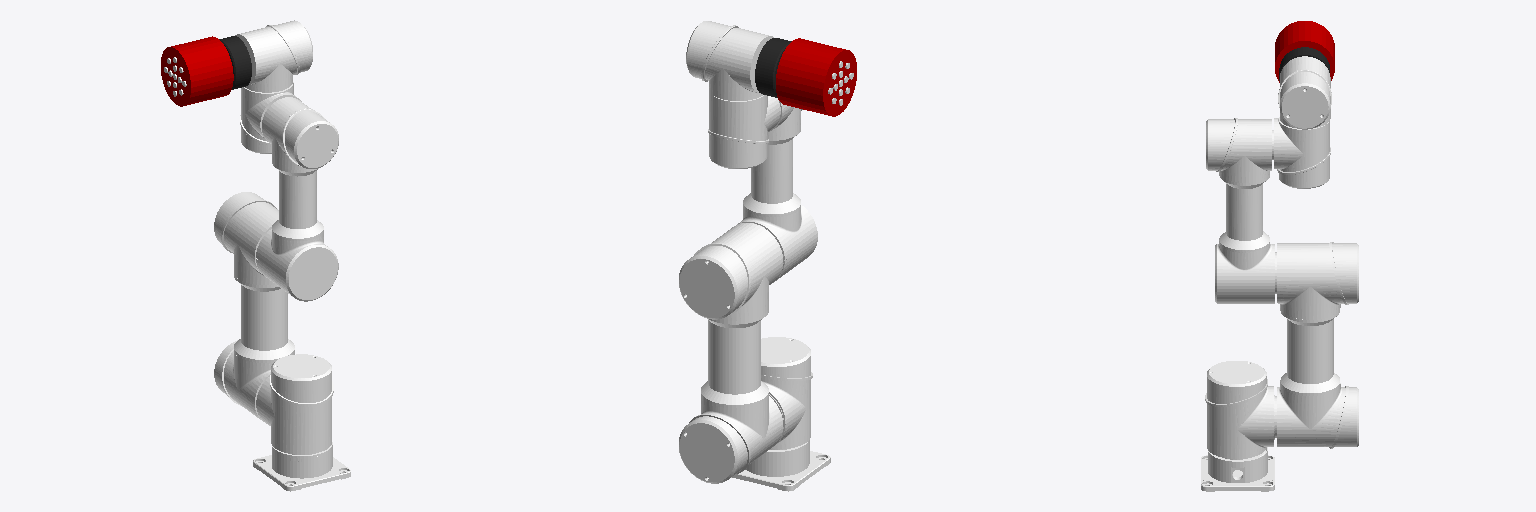
--- Render facts (derived) ---
The picture shows the robot from 3 angles, left to right: view 1: azimuth 30°, elevation 25°; view 2: azimuth 150°, elevation 25°; view 3: azimuth 270°, elevation 25°; orthographic projection.
Model elerobot with 22 links and 21 joints (19 revolute, 2 fixed), rooted at world, posed all joints at 0.
Visible links, largest first — view 1: elerobot_link3, elerobot_link2, elerobot_link1, elerobot_link5, elerobot_link7, elerobot_link0, elerobot_link4, elerobot_link6; view 2: elerobot_link2, elerobot_link3, elerobot_link5, elerobot_link7, elerobot_link1, elerobot_link4, elerobot_link0, elerobot_link6; view 3: elerobot_link2, elerobot_link3, elerobot_link1, elerobot_link5, elerobot_link4, elerobot_link0, elerobot_link7.
Link boxes in pixels (box(x1,y1,x2,y2)): elerobot_link3: box(256, 97, 338, 301); elerobot_link2: box(214, 192, 294, 423); elerobot_link1: box(256, 354, 333, 461); elerobot_link5: box(235, 20, 312, 92); elerobot_link7: box(161, 36, 233, 106); elerobot_link0: box(253, 442, 350, 491); elerobot_link4: box(240, 82, 301, 153); elerobot_link6: box(219, 36, 251, 89); elerobot_link2: box(679, 223, 783, 483); elerobot_link3: box(738, 101, 817, 282); elerobot_link5: box(686, 21, 773, 100); elerobot_link7: box(776, 38, 856, 116); elerobot_link1: box(761, 337, 812, 451); elerobot_link4: box(708, 91, 780, 168); elerobot_link0: box(731, 440, 830, 491); elerobot_link6: box(755, 38, 791, 97); elerobot_link2: box(1274, 242, 1358, 448); elerobot_link3: box(1206, 118, 1274, 303); elerobot_link1: box(1205, 361, 1273, 460); elerobot_link5: box(1278, 56, 1331, 129); elerobot_link4: box(1274, 117, 1330, 188); elerobot_link0: box(1201, 447, 1274, 491); elerobot_link7: box(1275, 21, 1334, 82).
Size in the robot's own frame: 0.2392 by 0.2632 by 0.7542 metres.
7 mesh visuals loaded from 7 distinct referenced files (7 binary STL).

The robot description file, URDF, robot "elerobot":
<?xml version="1.0" encoding="utf-8"?>
<!-- =================================================================================== -->
<!-- |    This document was autogenerated by xacro from elerobot.urdf.xacro            | -->
<!-- |    EDITING THIS FILE BY HAND IS NOT RECOMMENDED                                 | -->
<!-- =================================================================================== -->
<robot name="elerobot">
  <!-- xacro color -->
  <material name="black">
    <color rgba="0.0 0.0 0.0 1.0"/>
  </material>
  <material name="blue">
    <color rgba="0.0 0.0 0.8 1.0"/>
  </material>
  <material name="green">
    <color rgba="0.0 0.8 0.0 1.0"/>
  </material>
  <material name="grey">
    <color rgba="0.2 0.2 0.2 1.0"/>
  </material>
  <material name="orange">
    <color rgba="1.0 0.423529411765 0.0392156862745 1.0"/>
  </material>
  <material name="brown">
    <color rgba="0.870588235294 0.811764705882 0.764705882353 1.0"/>
  </material>
  <material name="red">
    <color rgba="0.8 0.0 0.0 1.0"/>
  </material>
  <material name="white">
    <color rgba="1.0 1.0 1.0 1.0"/>
  </material>
  <!-- MACRO: transmission of the joint-->
<![CDATA[ 
  Arm_Part: Actuator, Joint, etc
  Effort ${Arm_Part} Interface - for commanding effort-based joints. 
  Velocity ${Arm_Part} Interface - for commanding velocity-based joints.
  Position ${Arm_Part} Interface - for commanding position-based joints.
  ]]>  <!-- LINK DESCRIPTION -->
  <!-- Gazebo requires a joint to a link called "world" for statically mounted robots -->
  <link name="world"/>
  <joint name="world_joint" type="fixed">
    <origin rpy="0.0 0.0 0.0" xyz="0.0 0.0 0.0"/>
    <parent link="world"/>
    <child link="elerobot_link0"/>
  </joint>
  <!-- link0 -->
  <link name="elerobot_link0">
    <visual>
      <origin rpy="-1.57079632675 0.0 0.0" xyz="-0.06 -0.06 0.05"/>
      <geometry>
        <mesh filename="package://elerobot_description/mesh/ERP03D_LINK0.STL" scale="0.001 0.001 0.001"/>
      </geometry>
      <material name="white"/>
    </visual>
    <collision>
      <origin rpy="-1.57079632675 0.0 0.0" xyz="-0.06 -0.06 0.05"/>
      <geometry>
        <mesh filename="package://elerobot_description/mesh/ERP03D_LINK0.STL" scale="0.001 0.001 0.001"/>
      </geometry>
      <material name="white"/>
    </collision>
    <inertial>
      <origin rpy="0.0 0.0 0.0" xyz="-0.0008 0.0091 0.0"/>
      <mass value="1.171"/>
      <inertia ixx="0.0017" ixy="0.0000" ixz="0.0000" iyy="0.0028" iyz="0.0000" izz="0.0017"/>
    </inertial>
  </link>
  <!-- link1 -->
  <link name="elerobot_link1">
    <visual>
      <origin rpy="0.0 0.0 0.0" xyz="-0.0528 -0.0528 -0.07"/>
      <geometry>
        <mesh filename="package://elerobot_description/mesh/ERP03D_LINK1.STL" scale="0.001 0.001 0.001"/>
      </geometry>
      <material name="white"/>
    </visual>
    <collision>
      <origin rpy="0.0 0.0 0.0" xyz="-0.0528 -0.0528 -0.07"/>
      <geometry>
        <mesh filename="package://elerobot_description/mesh/ERP03D_LINK1.STL" scale="0.001 0.001 0.001"/>
      </geometry>
      <material name="white"/>
    </collision>
    <inertial>
      <origin rpy="0.0 0.0 0.0" xyz="0.0 0.0032 0.0615"/>
      <mass value="2.488"/>
      <inertia ixx="0.0156" ixy="0.0000" ixz="0.0000" iyy="0.0154" iyz="0.0004" izz="0.0034"/>
    </inertial>
  </link>
  <!-- link2 -->
  <link name="elerobot_link2">
    <visual>
      <origin rpy="-1.57079632675 0.0 0.0" xyz="-0.054 -0.053 0.154"/>
      <geometry>
        <mesh filename="package://elerobot_description/mesh/ERP03D_LINK2.STL" scale="0.001 0.001 0.001"/>
      </geometry>
      <material name="white"/>
    </visual>
    <collision>
      <origin rpy="-1.57079632675 0.0 0.0" xyz="-0.054 -0.053 0.154"/>
      <geometry>
        <mesh filename="package://elerobot_description/mesh/ERP03D_LINK2.STL" scale="0.001 0.001 0.001"/>
      </geometry>
      <material name="white"/>
    </collision>
    <inertial>
      <origin rpy="0.0 0.0 0.0" xyz="0.0 -0.0049 0.0"/>
      <mass value="6.628"/>
      <inertia ixx="0.0137" ixy="0.0000" ixz="0.0000" iyy="0.0940" iyz="0.0000" izz="0.0997"/>
    </inertial>
  </link>
  <!-- link3 -->
  <link name="elerobot_link3">
    <visual>
      <origin rpy="-1.57079632675 0.0 3.1415926535" xyz="0.2815 0.078 0.024"/>
      <geometry>
        <mesh filename="package://elerobot_description/mesh/ERP03D_LINK3.STL" scale="0.001 0.001 0.001"/>
      </geometry>
      <material name="white"/>
    </visual>
    <collision>
      <origin rpy="-1.57079632675 0.0 3.1415926535" xyz="0.2815 0.078 0.024"/>
      <geometry>
        <mesh filename="package://elerobot_description/mesh/ERP03D_LINK3.STL" scale="0.001 0.001 0.001"/>
      </geometry>
      <material name="white"/>
    </collision>
    <inertial>
      <origin rpy="0.0 0.0 0.0" xyz="0.0052 0.0037 0.0"/>
      <mass value="3.88"/>
      <inertia ixx="0.0049" ixy="-0.0001" ixz="0.0000" iyy="0.0446" iyz="0.0000" izz="0.0456"/>
    </inertial>
  </link>
  <!-- link4 -->
  <link name="elerobot_link4">
    <visual>
      <origin rpy="-1.57079632675 0.0 0.0" xyz="-0.0772 -0.0596 0.044"/>
      <geometry>
        <mesh filename="package://elerobot_description/mesh/ERP03D_LINK4.STL" scale="0.001 0.001 0.001"/>
      </geometry>
      <material name="white"/>
    </visual>
    <collision>
      <origin rpy="-1.57079632675 0.0 0.0" xyz="-0.0772 -0.0596 0.044"/>
      <geometry>
        <mesh filename="package://elerobot_description/mesh/ERP03D_LINK4.STL" scale="0.001 0.001 0.001"/>
      </geometry>
      <material name="white"/>
    </collision>
    <inertial>
      <origin rpy="0.0 0.0 0.0" xyz="0.0 0.0 0.05"/>
      <mass value="1.42"/>
      <inertia ixx="0.01" ixy="0.0" ixz="0.0000" iyy="0.01" iyz="0.0" izz="0.0"/>
    </inertial>
  </link>
  <!-- link5 -->
  <link name="elerobot_link5">
    <visual>
      <origin rpy="-1.57079632675 0.0 3.1415926535" xyz="0.0775 0.0605 0.046"/>
      <geometry>
        <mesh filename="package://elerobot_description/mesh/ERP03D_LINK5.STL" scale="0.001 0.001 0.001"/>
      </geometry>
      <material name="white"/>
    </visual>
    <collision>
      <origin rpy="-1.57079632675 0.0 3.1415926535" xyz="0.0775 0.0605 0.046"/>
      <geometry>
        <mesh filename="package://elerobot_description/mesh/ERP03D_LINK5.STL" scale="0.001 0.001 0.001"/>
      </geometry>
      <material name="white"/>
    </collision>
    <inertial>
      <origin rpy="0.0 0.0 0.0" xyz="0.0 0.0023 0.0506"/>
      <mass value="1.417"/>
      <inertia ixx="0.0059" ixy="0.0" ixz="0.0000" iyy="0.0059" iyz="0.0002" izz="0.0014"/>
    </inertial>
  </link>
  <!-- link6 -->
  <link name="elerobot_link6">
    <visual>
      <origin rpy="0.0 0.0 0.0" xyz="-0.0425 -0.0425 -0.007"/>
      <geometry>
        <mesh filename="package://elerobot_description/mesh/ERP03D_LINK6.STL" scale="0.001 0.001 0.001"/>
      </geometry>
      <material name="grey"/>
    </visual>
    <collision>
      <origin rpy="0.0 0.0 0.0" xyz="-0.0425 -0.0425 -0.007"/>
      <geometry>
        <mesh filename="package://elerobot_description/mesh/ERP03D_LINK6.STL" scale="0.001 0.001 0.001"/>
      </geometry>
      <material name="grey"/>
    </collision>
    <inertial>
      <origin rpy="0.0 0.0 0.0" xyz="-0.0001 -0.00033 0.02"/>
      <mass value="0.3158"/>
      <inertia ixx="0.0003" ixy="0.0" ixz="0.0" iyy="0.0003" iyz="0.0" izz="0.0003"/>
    </inertial>
  </link>
  <link name="elerobot_link7">
    <visual>
      <origin rpy="0.0 0.0 0.0" xyz="0.0 0.0 -0.04"/>
      <geometry>
        <cylinder length="0.08" radius="0.05"/>
      </geometry>
      <material name="red"/>
    </visual>
    <collision>
      <origin rpy="0.0 0.0 0.0" xyz="0.0 0.0 -0.04"/>
      <geometry>
        <cylinder length="0.08" radius="0.05"/>
      </geometry>
    </collision>
    <inertial>
      <origin rpy="0.0 0.0 0.0" xyz="0.0 0.0 0.0"/>
      <mass value="0.1"/>
      <inertia ixx="0.000115833333333" ixy="0" ixz="0" iyy="0.000115833333333" iyz="0" izz="0.000125"/>
    </inertial>
  </link>
  <!-- JOINT DESCRIPTION -->
  <!-- joint0 Locked -->
  <joint name="elerobot_joint0" type="revolute">
    <axis xyz="0 0 1"/>
    <origin rpy="0.0 0.0 0.0" xyz="0.0 0.0 0.107"/>
    <safety_controller k_position="50.0" k_velocity="20.0" soft_lower_limit="-0.000174532925194" soft_upper_limit="0.000174532925194"/>
    <!-- <safety_controller k_position="50.0" k_velocity="20.0" soft_lower_limit="${-PI*360/180}" soft_upper_limit="${PI*360/180}"/> -->
    <limit acceleration="15" effort="500.0" lower="-6.283185307" upper="6.283185307" velocity="3.1415926535"/>
    <parent link="elerobot_link0"/>
    <child link="elerobot_link1"/>
    <dynamics D="1" K="7000" damping="0.003" friction="0.01" mu_coulomb="0" mu_viscous="16"/>
  </joint>
  <!-- joint1 -->
  <joint name="elerobot_joint1" type="revolute">
    <axis xyz="0 0 1"/>
    <origin rpy="0.0 -1.57079632675 -1.57079632675" xyz="0.0 0.05 0.0"/>
    <safety_controller k_position="50.0" k_velocity="20.0" soft_lower_limit="-6.283185307" soft_upper_limit="6.283185307"/>
    <limit acceleration="15" effort="500.0" lower="-6.283185307" upper="6.283185307" velocity="3.1415926535"/>
    <parent link="elerobot_link1"/>
    <child link="elerobot_link2"/>
    <dynamics D="1" K="7000" damping="0.003" friction="0.01" mu_coulomb="0" mu_viscous="16"/>
  </joint>
  <!-- joint2 -->
  <joint name="elerobot_joint2" type="revolute">
    <axis xyz="0 0 1"/>
    <origin rpy="0.0 0.0 0.0" xyz="0.265 0.0 0.0"/>
    <safety_controller k_position="50.0" k_velocity="20.0" soft_lower_limit="-6.283185307" soft_upper_limit="6.283185307"/>
    <limit acceleration="15" effort="500.0" lower="-6.283185307" upper="6.283185307" velocity="3.1415926535"/>
    <parent link="elerobot_link2"/>
    <child link="elerobot_link3"/>
    <dynamics D="1" K="7000" damping="0.003" friction="0.01" mu_coulomb="0" mu_viscous="16"/>
  </joint>
  <!-- joint3 -->
  <joint name="elerobot_joint3" type="revolute">
    <axis xyz="0 0 1"/>
    <origin rpy="0.0 0.0 1.57079632675" xyz="0.238 0.0 0.063"/>
    <safety_controller k_position="50.0" k_velocity="20.0" soft_lower_limit="-6.283185307" soft_upper_limit="6.283185307"/>
    <limit acceleration="15" effort="500.0" lower="-6.283185307" upper="6.283185307" velocity="3.63028484404"/>
    <parent link="elerobot_link3"/>
    <child link="elerobot_link4"/>
    <dynamics D="1" K="7000" damping="0.003" friction="0.01" mu_coulomb="0" mu_viscous="16"/>
  </joint>
  <!-- joint4 -->
  <joint name="elerobot_joint4" type="revolute">
    <axis xyz="0 0 1"/>
    <origin rpy="0.0 -1.57079632675 1.57079632675" xyz="0.0 -0.095 0.0"/>
    <safety_controller k_position="50.0" k_velocity="20.0" soft_lower_limit="-0.000174532925194" soft_upper_limit="0.000174532925194"/>
    <!-- <safety_controller k_position="50.0" k_velocity="20.0" soft_lower_limit="${-PI*360/180}" soft_upper_limit="${PI*360/180}"/> -->
    <limit acceleration="15" effort="500.0" lower="-6.283185307" upper="6.283185307" velocity="3.63028484404"/>
    <parent link="elerobot_link4"/>
    <child link="elerobot_link5"/>
    <dynamics D="1" K="7000" damping="0.003" friction="0.01" mu_coulomb="0" mu_viscous="16"/>
  </joint>
  <!-- joint5 Locked -->
  <joint name="elerobot_joint5" type="revolute">
    <axis xyz="0 0 1"/>
    <origin rpy="-1.57079632675 0.0 0.0" xyz="0.0 0.06 0.0"/>
    <safety_controller k_position="50.0" k_velocity="20.0" soft_lower_limit="-6.283185307" soft_upper_limit="6.283185307"/>
    <limit acceleration="15" effort="500.0" lower="-6.283185307" upper="6.283185307" velocity="3.63028484404"/>
    <parent link="elerobot_link5"/>
    <child link="elerobot_link6"/>
    <dynamics D="1" K="7000" damping="0.003" friction="0.01" mu_coulomb="0" mu_viscous="16"/>
  </joint>
  <!-- joint6 -->
  <joint name="elerobot_joint6" type="fixed">
    <origin rpy="0.0 0.0 0.0" xyz="0.0 0.0 0.112"/>
    <parent link="elerobot_link6"/>
    <child link="elerobot_link7"/>
  </joint>
  <link name="vacuum_gripper_1">
    <gravity>0</gravity>
    <visual>
      <origin rpy="0 0 0" xyz="0 0 -0.0025"/>
      <geometry>
        <cylinder length="0.005" radius="0.005"/>
      </geometry>
      <material name="transparent">
        <color rgba="255 255 255 0.8"/>
      </material>
    </visual>
    <collision>
      <origin rpy="0 0 0" xyz="0 0 -0.0025"/>
      <geometry>
        <cylinder length="0.0005" radius="0.005"/>
      </geometry>
      <material name="transparent">
        <color rgba="255 255 255 0.8"/>
      </material>
    </collision>
    <inertial>
      <origin rpy="0 0 0" xyz="0.000000 0.000000 0.000000"/>
      <mass value="0.0001"/>
      <inertia ixx="1e-08" ixy="0" ixz="0" iyy="1e-08" iyz="0" izz="1e-08"/>
    </inertial>
  </link>
  <joint name="vacuum_joint_1" type="revolute">
    <axis xyz="0 0 1"/>
    <parent link="elerobot_link7"/>
    <child link="vacuum_gripper_1"/>
    <origin rpy="0 0 0" xyz="0 0 0.0025"/>
    <limit effort="50" lower="0" upper="0" velocity="50"/>
    <dynamics damping="0.0" friction="10"/>
  </joint>
  <gazebo>
    <plugin filename="libgazebo_ros_vacuum_gripper.so" name="gazebo_ros_vacuum_gripper_1">
      <robotNamespace>/rokae_arm/vacuum_gripper_1</robotNamespace>
      <bodyName>vacuum_gripper_1</bodyName>
      <topicName>grasping_1</topicName>
      <maxForce>100</maxForce>
      <maxDistance>0.05</maxDistance>
      <minDistance>0.01</minDistance>
    </plugin>
  </gazebo>
  <link name="vacuum_gripper_2">
    <gravity>0</gravity>
    <visual>
      <origin rpy="0 0 0" xyz="0 0 -0.0025"/>
      <geometry>
        <cylinder length="0.005" radius="0.005"/>
      </geometry>
      <material name="transparent">
        <color rgba="255 255 255 0.8"/>
      </material>
    </visual>
    <collision>
      <origin rpy="0 0 0" xyz="0 0 -0.0025"/>
      <geometry>
        <cylinder length="0.0005" radius="0.005"/>
      </geometry>
      <material name="transparent">
        <color rgba="255 255 255 0.8"/>
      </material>
    </collision>
    <inertial>
      <origin rpy="0 0 0" xyz="0.000000 0.000000 0.000000"/>
      <mass value="0.0001"/>
      <inertia ixx="1e-08" ixy="0" ixz="0" iyy="1e-08" iyz="0" izz="1e-08"/>
    </inertial>
  </link>
  <joint name="vacuum_joint_2" type="revolute">
    <axis xyz="0 0 1"/>
    <parent link="elerobot_link7"/>
    <child link="vacuum_gripper_2"/>
    <origin rpy="0 0 0" xyz="0.015 0 0.0025"/>
    <limit effort="50" lower="0" upper="0" velocity="50"/>
    <dynamics damping="0.0" friction="10"/>
  </joint>
  <gazebo>
    <plugin filename="libgazebo_ros_vacuum_gripper.so" name="gazebo_ros_vacuum_gripper_2">
      <robotNamespace>/rokae_arm/vacuum_gripper_2</robotNamespace>
      <bodyName>vacuum_gripper_2</bodyName>
      <topicName>grasping_2</topicName>
      <maxForce>100</maxForce>
      <maxDistance>0.05</maxDistance>
      <minDistance>0.01</minDistance>
    </plugin>
  </gazebo>
  <link name="vacuum_gripper_3">
    <gravity>0</gravity>
    <visual>
      <origin rpy="0 0 0" xyz="0 0 -0.0025"/>
      <geometry>
        <cylinder length="0.005" radius="0.005"/>
      </geometry>
      <material name="transparent">
        <color rgba="255 255 255 0.8"/>
      </material>
    </visual>
    <collision>
      <origin rpy="0 0 0" xyz="0 0 -0.0025"/>
      <geometry>
        <cylinder length="0.0005" radius="0.005"/>
      </geometry>
      <material name="transparent">
        <color rgba="255 255 255 0.8"/>
      </material>
    </collision>
    <inertial>
      <origin rpy="0 0 0" xyz="0.000000 0.000000 0.000000"/>
      <mass value="0.0001"/>
      <inertia ixx="1e-08" ixy="0" ixz="0" iyy="1e-08" iyz="0" izz="1e-08"/>
    </inertial>
  </link>
  <joint name="vacuum_joint_3" type="revolute">
    <axis xyz="0 0 1"/>
    <parent link="elerobot_link7"/>
    <child link="vacuum_gripper_3"/>
    <origin rpy="0 0 0" xyz="-0.015 0 0.0025"/>
    <limit effort="50" lower="0" upper="0" velocity="50"/>
    <dynamics damping="0.0" friction="10"/>
  </joint>
  <gazebo>
    <plugin filename="libgazebo_ros_vacuum_gripper.so" name="gazebo_ros_vacuum_gripper_3">
      <robotNamespace>/rokae_arm/vacuum_gripper_3</robotNamespace>
      <bodyName>vacuum_gripper_3</bodyName>
      <topicName>grasping_3</topicName>
      <maxForce>100</maxForce>
      <maxDistance>0.05</maxDistance>
      <minDistance>0.01</minDistance>
    </plugin>
  </gazebo>
  <link name="vacuum_gripper_4">
    <gravity>0</gravity>
    <visual>
      <origin rpy="0 0 0" xyz="0 0 -0.0025"/>
      <geometry>
        <cylinder length="0.005" radius="0.005"/>
      </geometry>
      <material name="transparent">
        <color rgba="255 255 255 0.8"/>
      </material>
    </visual>
    <collision>
      <origin rpy="0 0 0" xyz="0 0 -0.0025"/>
      <geometry>
        <cylinder length="0.0005" radius="0.005"/>
      </geometry>
      <material name="transparent">
        <color rgba="255 255 255 0.8"/>
      </material>
    </collision>
    <inertial>
      <origin rpy="0 0 0" xyz="0.000000 0.000000 0.000000"/>
      <mass value="0.0001"/>
      <inertia ixx="1e-08" ixy="0" ixz="0" iyy="1e-08" iyz="0" izz="1e-08"/>
    </inertial>
  </link>
  <joint name="vacuum_joint_4" type="revolute">
    <axis xyz="0 0 1"/>
    <parent link="elerobot_link7"/>
    <child link="vacuum_gripper_4"/>
    <origin rpy="0 0 0" xyz="0 0.015 0.0025"/>
    <limit effort="50" lower="0" upper="0" velocity="50"/>
    <dynamics damping="0.0" friction="10"/>
  </joint>
  <gazebo>
    <plugin filename="libgazebo_ros_vacuum_gripper.so" name="gazebo_ros_vacuum_gripper_4">
      <robotNamespace>/rokae_arm/vacuum_gripper_4</robotNamespace>
      <bodyName>vacuum_gripper_4</bodyName>
      <topicName>grasping_4</topicName>
      <maxForce>100</maxForce>
      <maxDistance>0.05</maxDistance>
      <minDistance>0.01</minDistance>
    </plugin>
  </gazebo>
  <link name="vacuum_gripper_5">
    <gravity>0</gravity>
    <visual>
      <origin rpy="0 0 0" xyz="0 0 -0.0025"/>
      <geometry>
        <cylinder length="0.005" radius="0.005"/>
      </geometry>
      <material name="transparent">
        <color rgba="255 255 255 0.8"/>
      </material>
    </visual>
    <collision>
      <origin rpy="0 0 0" xyz="0 0 -0.0025"/>
      <geometry>
        <cylinder length="0.0005" radius="0.005"/>
      </geometry>
      <material name="transparent">
        <color rgba="255 255 255 0.8"/>
      </material>
    </collision>
    <inertial>
      <origin rpy="0 0 0" xyz="0.000000 0.000000 0.000000"/>
      <mass value="0.0001"/>
      <inertia ixx="1e-08" ixy="0" ixz="0" iyy="1e-08" iyz="0" izz="1e-08"/>
    </inertial>
  </link>
  <joint name="vacuum_joint_5" type="revolute">
    <axis xyz="0 0 1"/>
    <parent link="elerobot_link7"/>
    <child link="vacuum_gripper_5"/>
    <origin rpy="0 0 0" xyz="0 -0.015 0.0025"/>
    <limit effort="50" lower="0" upper="0" velocity="50"/>
    <dynamics damping="0.0" friction="10"/>
  </joint>
  <gazebo>
    <plugin filename="libgazebo_ros_vacuum_gripper.so" name="gazebo_ros_vacuum_gripper_5">
      <robotNamespace>/rokae_arm/vacuum_gripper_5</robotNamespace>
      <bodyName>vacuum_gripper_5</bodyName>
      <topicName>grasping_5</topicName>
      <maxForce>100</maxForce>
      <maxDistance>0.05</maxDistance>
      <minDistance>0.01</minDistance>
    </plugin>
  </gazebo>
  <link name="vacuum_gripper_6">
    <gravity>0</gravity>
    <visual>
      <origin rpy="0 0 0" xyz="0 0 -0.0025"/>
      <geometry>
        <cylinder length="0.005" radius="0.005"/>
      </geometry>
      <material name="transparent">
        <color rgba="255 255 255 0.8"/>
      </material>
    </visual>
    <collision>
      <origin rpy="0 0 0" xyz="0 0 -0.0025"/>
      <geometry>
        <cylinder length="0.0005" radius="0.005"/>
      </geometry>
      <material name="transparent">
        <color rgba="255 255 255 0.8"/>
      </material>
    </collision>
    <inertial>
      <origin rpy="0 0 0" xyz="0.000000 0.000000 0.000000"/>
      <mass value="0.0001"/>
      <inertia ixx="1e-08" ixy="0" ixz="0" iyy="1e-08" iyz="0" izz="1e-08"/>
    </inertial>
  </link>
  <joint name="vacuum_joint_6" type="revolute">
    <axis xyz="0 0 1"/>
    <parent link="elerobot_link7"/>
    <child link="vacuum_gripper_6"/>
    <origin rpy="0 0 0" xyz="0.03 0 0.0025"/>
    <limit effort="50" lower="0" upper="0" velocity="50"/>
    <dynamics damping="0.0" friction="10"/>
  </joint>
  <gazebo>
    <plugin filename="libgazebo_ros_vacuum_gripper.so" name="gazebo_ros_vacuum_gripper_6">
      <robotNamespace>/rokae_arm/vacuum_gripper_6</robotNamespace>
      <bodyName>vacuum_gripper_6</bodyName>
      <topicName>grasping_6</topicName>
      <maxForce>100</maxForce>
      <maxDistance>0.05</maxDistance>
      <minDistance>0.01</minDistance>
    </plugin>
  </gazebo>
  <link name="vacuum_gripper_7">
    <gravity>0</gravity>
    <visual>
      <origin rpy="0 0 0" xyz="0 0 -0.0025"/>
      <geometry>
        <cylinder length="0.005" radius="0.005"/>
      </geometry>
      <material name="transparent">
        <color rgba="255 255 255 0.8"/>
      </material>
    </visual>
    <collision>
      <origin rpy="0 0 0" xyz="0 0 -0.0025"/>
      <geometry>
        <cylinder length="0.0005" radius="0.005"/>
      </geometry>
      <material name="transparent">
        <color rgba="255 255 255 0.8"/>
      </material>
    </collision>
    <inertial>
      <origin rpy="0 0 0" xyz="0.000000 0.000000 0.000000"/>
      <mass value="0.0001"/>
      <inertia ixx="1e-08" ixy="0" ixz="0" iyy="1e-08" iyz="0" izz="1e-08"/>
    </inertial>
  </link>
  <joint name="vacuum_joint_7" type="revolute">
    <axis xyz="0 0 1"/>
    <parent link="elerobot_link7"/>
    <child link="vacuum_gripper_7"/>
    <origin rpy="0 0 0" xyz="-0.03 0 0.0025"/>
    <limit effort="50" lower="0" upper="0" velocity="50"/>
    <dynamics damping="0.0" friction="10"/>
  </joint>
  <gazebo>
    <plugin filename="libgazebo_ros_vacuum_gripper.so" name="gazebo_ros_vacuum_gripper_7">
      <robotNamespace>/rokae_arm/vacuum_gripper_7</robotNamespace>
      <bodyName>vacuum_gripper_7</bodyName>
      <topicName>grasping_7</topicName>
      <maxForce>100</maxForce>
      <maxDistance>0.05</maxDistance>
      <minDistance>0.01</minDistance>
    </plugin>
  </gazebo>
  <link name="vacuum_gripper_8">
    <gravity>0</gravity>
    <visual>
      <origin rpy="0 0 0" xyz="0 0 -0.0025"/>
      <geometry>
        <cylinder length="0.005" radius="0.005"/>
      </geometry>
      <material name="transparent">
        <color rgba="255 255 255 0.8"/>
      </material>
    </visual>
    <collision>
      <origin rpy="0 0 0" xyz="0 0 -0.0025"/>
      <geometry>
        <cylinder length="0.0005" radius="0.005"/>
      </geometry>
      <material name="transparent">
        <color rgba="255 255 255 0.8"/>
      </material>
    </collision>
    <inertial>
      <origin rpy="0 0 0" xyz="0.000000 0.000000 0.000000"/>
      <mass value="0.0001"/>
      <inertia ixx="1e-08" ixy="0" ixz="0" iyy="1e-08" iyz="0" izz="1e-08"/>
    </inertial>
  </link>
  <joint name="vacuum_joint_8" type="revolute">
    <axis xyz="0 0 1"/>
    <parent link="elerobot_link7"/>
    <child link="vacuum_gripper_8"/>
    <origin rpy="0 0 0" xyz="0 0.03 0.0025"/>
    <limit effort="50" lower="0" upper="0" velocity="50"/>
    <dynamics damping="0.0" friction="10"/>
  </joint>
  <gazebo>
    <plugin filename="libgazebo_ros_vacuum_gripper.so" name="gazebo_ros_vacuum_gripper_8">
      <robotNamespace>/rokae_arm/vacuum_gripper_8</robotNamespace>
      <bodyName>vacuum_gripper_8</bodyName>
      <topicName>grasping_8</topicName>
      <maxForce>100</maxForce>
      <maxDistance>0.05</maxDistance>
      <minDistance>0.01</minDistance>
    </plugin>
  </gazebo>
  <link name="vacuum_gripper_9">
    <gravity>0</gravity>
    <visual>
      <origin rpy="0 0 0" xyz="0 0 -0.0025"/>
      <geometry>
        <cylinder length="0.005" radius="0.005"/>
      </geometry>
      <material name="transparent">
        <color rgba="255 255 255 0.8"/>
      </material>
    </visual>
    <collision>
      <origin rpy="0 0 0" xyz="0 0 -0.0025"/>
      <geometry>
        <cylinder length="0.0005" radius="0.005"/>
      </geometry>
      <material name="transparent">
        <color rgba="255 255 255 0.8"/>
      </material>
    </collision>
    <inertial>
      <origin rpy="0 0 0" xyz="0.000000 0.000000 0.000000"/>
      <mass value="0.0001"/>
      <inertia ixx="1e-08" ixy="0" ixz="0" iyy="1e-08" iyz="0" izz="1e-08"/>
    </inertial>
  </link>
  <joint name="vacuum_joint_9" type="revolute">
    <axis xyz="0 0 1"/>
    <parent link="elerobot_link7"/>
    <child link="vacuum_gripper_9"/>
    <origin rpy="0 0 0" xyz="0 -0.03 0.0025"/>
    <limit effort="50" lower="0" upper="0" velocity="50"/>
    <dynamics damping="0.0" friction="10"/>
  </joint>
  <gazebo>
    <plugin filename="libgazebo_ros_vacuum_gripper.so" name="gazebo_ros_vacuum_gripper_9">
      <robotNamespace>/rokae_arm/vacuum_gripper_9</robotNamespace>
      <bodyName>vacuum_gripper_9</bodyName>
      <topicName>grasping_9</topicName>
      <maxForce>100</maxForce>
      <maxDistance>0.05</maxDistance>
      <minDistance>0.01</minDistance>
    </plugin>
  </gazebo>
  <link name="vacuum_gripper_10">
    <gravity>0</gravity>
    <visual>
      <origin rpy="0 0 0" xyz="0 0 -0.0025"/>
      <geometry>
        <cylinder length="0.005" radius="0.005"/>
      </geometry>
      <material name="transparent">
        <color rgba="255 255 255 0.8"/>
      </material>
    </visual>
    <collision>
      <origin rpy="0 0 0" xyz="0 0 -0.0025"/>
      <geometry>
        <cylinder length="0.0005" radius="0.005"/>
      </geometry>
      <material name="transparent">
        <color rgba="255 255 255 0.8"/>
      </material>
    </collision>
    <inertial>
      <origin rpy="0 0 0" xyz="0.000000 0.000000 0.000000"/>
      <mass value="0.0001"/>
      <inertia ixx="1e-08" ixy="0" ixz="0" iyy="1e-08" iyz="0" izz="1e-08"/>
    </inertial>
  </link>
  <joint name="vacuum_joint_10" type="revolute">
    <axis xyz="0 0 1"/>
    <parent link="elerobot_link7"/>
    <child link="vacuum_gripper_10"/>
    <origin rpy="0 0 0" xyz="0.02 0.02 0.0025"/>
    <limit effort="50" lower="0" upper="0" velocity="50"/>
    <dynamics damping="0.0" friction="10"/>
  </joint>
  <gazebo>
    <plugin filename="libgazebo_ros_vacuum_gripper.so" name="gazebo_ros_vacuum_gripper_10">
      <robotNamespace>/rokae_arm/vacuum_gripper_10</robotNamespace>
      <bodyName>vacuum_gripper_10</bodyName>
      <topicName>grasping_10</topicName>
      <maxForce>100</maxForce>
      <maxDistance>0.05</maxDistance>
      <minDistance>0.01</minDistance>
    </plugin>
  </gazebo>
  <link name="vacuum_gripper_11">
    <gravity>0</gravity>
    <visual>
      <origin rpy="0 0 0" xyz="0 0 -0.0025"/>
      <geometry>
        <cylinder length="0.005" radius="0.005"/>
      </geometry>
      <material name="transparent">
        <color rgba="255 255 255 0.8"/>
      </material>
    </visual>
    <collision>
      <origin rpy="0 0 0" xyz="0 0 -0.0025"/>
      <geometry>
        <cylinder length="0.0005" radius="0.005"/>
      </geometry>
      <material name="transparent">
        <color rgba="255 255 255 0.8"/>
      </material>
    </collision>
    <inertial>
      <origin rpy="0 0 0" xyz="0.000000 0.000000 0.000000"/>
      <mass value="0.0001"/>
      <inertia ixx="1e-08" ixy="0" ixz="0" iyy="1e-08" iyz="0" izz="1e-08"/>
    </inertial>
  </link>
  <joint name="vacuum_joint_11" type="revolute">
    <axis xyz="0 0 1"/>
    <parent link="elerobot_link7"/>
    <child link="vacuum_gripper_11"/>
    <origin rpy="0 0 0" xyz="-0.02 -0.02 0.0025"/>
    <limit effort="50" lower="0" upper="0" velocity="50"/>
    <dynamics damping="0.0" friction="10"/>
  </joint>
  <gazebo>
    <plugin filename="libgazebo_ros_vacuum_gripper.so" name="gazebo_ros_vacuum_gripper_11">
      <robotNamespace>/rokae_arm/vacuum_gripper_11</robotNamespace>
      <bodyName>vacuum_gripper_11</bodyName>
      <topicName>grasping_11</topicName>
      <maxForce>100</maxForce>
      <maxDistance>0.05</maxDistance>
      <minDistance>0.01</minDistance>
    </plugin>
  </gazebo>
  <link name="vacuum_gripper_12">
    <gravity>0</gravity>
    <visual>
      <origin rpy="0 0 0" xyz="0 0 -0.0025"/>
      <geometry>
        <cylinder length="0.005" radius="0.005"/>
      </geometry>
      <material name="transparent">
        <color rgba="255 255 255 0.8"/>
      </material>
    </visual>
    <collision>
      <origin rpy="0 0 0" xyz="0 0 -0.0025"/>
      <geometry>
        <cylinder length="0.0005" radius="0.005"/>
      </geometry>
      <material name="transparent">
        <color rgba="255 255 255 0.8"/>
      </material>
    </collision>
    <inertial>
      <origin rpy="0 0 0" xyz="0.000000 0.000000 0.000000"/>
      <mass value="0.0001"/>
      <inertia ixx="1e-08" ixy="0" ixz="0" iyy="1e-08" iyz="0" izz="1e-08"/>
    </inertial>
  </link>
  <joint name="vacuum_joint_12" type="revolute">
    <axis xyz="0 0 1"/>
    <parent link="elerobot_link7"/>
    <child link="vacuum_gripper_12"/>
    <origin rpy="0 0 0" xyz="-0.02 0.02 0.0025"/>
    <limit effort="50" lower="0" upper="0" velocity="50"/>
    <dynamics damping="0.0" friction="10"/>
  </joint>
  <gazebo>
    <plugin filename="libgazebo_ros_vacuum_gripper.so" name="gazebo_ros_vacuum_gripper_12">
      <robotNamespace>/rokae_arm/vacuum_gripper_12</robotNamespace>
      <bodyName>vacuum_gripper_12</bodyName>
      <topicName>grasping_12</topicName>
      <maxForce>100</maxForce>
      <maxDistance>0.05</maxDistance>
      <minDistance>0.01</minDistance>
    </plugin>
  </gazebo>
  <link name="vacuum_gripper_13">
    <gravity>0</gravity>
    <visual>
      <origin rpy="0 0 0" xyz="0 0 -0.0025"/>
      <geometry>
        <cylinder length="0.005" radius="0.005"/>
      </geometry>
      <material name="transparent">
        <color rgba="255 255 255 0.8"/>
      </material>
    </visual>
    <collision>
      <origin rpy="0 0 0" xyz="0 0 -0.0025"/>
      <geometry>
        <cylinder length="0.0005" radius="0.005"/>
      </geometry>
      <material name="transparent">
        <color rgba="255 255 255 0.8"/>
      </material>
    </collision>
    <inertial>
      <origin rpy="0 0 0" xyz="0.000000 0.000000 0.000000"/>
      <mass value="0.0001"/>
      <inertia ixx="1e-08" ixy="0" ixz="0" iyy="1e-08" iyz="0" izz="1e-08"/>
    </inertial>
  </link>
  <joint name="vacuum_joint_13" type="revolute">
    <axis xyz="0 0 1"/>
    <parent link="elerobot_link7"/>
    <child link="vacuum_gripper_13"/>
    <origin rpy="0 0 0" xyz="0.02 -0.02 0.0025"/>
    <limit effort="50" lower="0" upper="0" velocity="50"/>
    <dynamics damping="0.0" friction="10"/>
  </joint>
  <gazebo>
    <plugin filename="libgazebo_ros_vacuum_gripper.so" name="gazebo_ros_vacuum_gripper_13">
      <robotNamespace>/rokae_arm/vacuum_gripper_13</robotNamespace>
      <bodyName>vacuum_gripper_13</bodyName>
      <topicName>grasping_13</topicName>
      <maxForce>100</maxForce>
      <maxDistance>0.05</maxDistance>
      <minDistance>0.01</minDistance>
    </plugin>
  </gazebo>
  <gazebo reference="elerobot_link0">
    <material>Gazebo/White</material>
  </gazebo>
  <gazebo reference="elerobot_link1">
    <material>Gazebo/White</material>
  </gazebo>
  <gazebo reference="elerobot_link2">
    <material>Gazebo/White</material>
  </gazebo>
  <gazebo reference="elerobot_link3">
    <material>Gazebo/White</material>
  </gazebo>
  <gazebo reference="elerobot_link4">
    <material>Gazebo/White</material>
  </gazebo>
  <gazebo reference="elerobot_link5">
    <material>Gazebo/White</material>
  </gazebo>
  <gazebo reference="elerobot_link6">
    <material>Gazebo/Grey</material>
  </gazebo>
  <gazebo reference="elerobot_link7">
    <material>Gazebo/Red</material>
    <mu1>0.61</mu1>
    <mu2>0.47</mu2>
  </gazebo>
  <gazebo reference="elerobot_joint0">
    <!-- Needed for ODE to output external wrenches on joints -->
    <provideFeedback>true</provideFeedback>
  </gazebo>
  <transmission name="elerobot_joint0_transmission">
    <type>transmission_interface/SimpleTransmission</type>
    <joint name="elerobot_joint0">
      <hardwareInterface>hardware_interface/PositionJointInterface</hardwareInterface>
    </joint>
    <actuator name="elerobot_joint0_motor">
      <hardwareInterface>hardware_interface/PositionJointInterface</hardwareInterface>
      <mechanicalReduction>1</mechanicalReduction>
    </actuator>
  </transmission>
  <gazebo reference="elerobot_joint1">
    <!-- Needed for ODE to output external wrenches on joints -->
    <provideFeedback>true</provideFeedback>
  </gazebo>
  <transmission name="elerobot_joint1_transmission">
    <type>transmission_interface/SimpleTransmission</type>
    <joint name="elerobot_joint1">
      <hardwareInterface>hardware_interface/PositionJointInterface</hardwareInterface>
    </joint>
    <actuator name="elerobot_joint1_motor">
      <hardwareInterface>hardware_interface/PositionJointInterface</hardwareInterface>
      <mechanicalReduction>1</mechanicalReduction>
    </actuator>
  </transmission>
  <gazebo reference="elerobot_joint2">
    <!-- Needed for ODE to output external wrenches on joints -->
    <provideFeedback>true</provideFeedback>
  </gazebo>
  <transmission name="elerobot_joint2_transmission">
    <type>transmission_interface/SimpleTransmission</type>
    <joint name="elerobot_joint2">
      <hardwareInterface>hardware_interface/PositionJointInterface</hardwareInterface>
    </joint>
    <actuator name="elerobot_joint2_motor">
      <hardwareInterface>hardware_interface/PositionJointInterface</hardwareInterface>
      <mechanicalReduction>1</mechanicalReduction>
    </actuator>
  </transmission>
  <gazebo reference="elerobot_joint3">
    <!-- Needed for ODE to output external wrenches on joints -->
    <provideFeedback>true</provideFeedback>
  </gazebo>
  <transmission name="elerobot_joint3_transmission">
    <type>transmission_interface/SimpleTransmission</type>
    <joint name="elerobot_joint3">
      <hardwareInterface>hardware_interface/PositionJointInterface</hardwareInterface>
    </joint>
    <actuator name="elerobot_joint3_motor">
      <hardwareInterface>hardware_interface/PositionJointInterface</hardwareInterface>
      <mechanicalReduction>1</mechanicalReduction>
    </actuator>
  </transmission>
  <gazebo reference="elerobot_joint4">
    <!-- Needed for ODE to output external wrenches on joints -->
    <provideFeedback>true</provideFeedback>
  </gazebo>
  <transmission name="elerobot_joint4_transmission">
    <type>transmission_interface/SimpleTransmission</type>
    <joint name="elerobot_joint4">
      <hardwareInterface>hardware_interface/PositionJointInterface</hardwareInterface>
    </joint>
    <actuator name="elerobot_joint4_motor">
      <hardwareInterface>hardware_interface/PositionJointInterface</hardwareInterface>
      <mechanicalReduction>1</mechanicalReduction>
    </actuator>
  </transmission>
  <gazebo reference="elerobot_joint5">
    <!-- Needed for ODE to output external wrenches on joints -->
    <provideFeedback>true</provideFeedback>
  </gazebo>
  <transmission name="elerobot_joint5_transmission">
    <type>transmission_interface/SimpleTransmission</type>
    <joint name="elerobot_joint5">
      <hardwareInterface>hardware_interface/PositionJointInterface</hardwareInterface>
    </joint>
    <actuator name="elerobot_joint5_motor">
      <hardwareInterface>hardware_interface/PositionJointInterface</hardwareInterface>
      <mechanicalReduction>1</mechanicalReduction>
    </actuator>
  </transmission>
  <!-- Gazebo plugin for ROS control -->
  <gazebo>
    <plugin filename="libgazebo_ros_control.so" name="gazebo_ros_control">
      <robotNamespace>/elerobot</robotNamespace>
      <controlPeriod>0.001</controlPeriod>
      <robotSimType>gazebo_ros_control/DefaultRobotHWSim</robotSimType>
      <legacyModeNS>true</legacyModeNS>
    </plugin>
    <self_collide>true</self_collide>
    <plugin filename="libgazebo_ros_moveit_planning_scene.so" name="gazebo_ros_moveit_planning_scene">
      <topicName>/planning_scene</topicName>
      <sceneName>factory</sceneName>
      <robotName>/elerobot</robotName>
      <updatePeriod>0.5</updatePeriod>
    </plugin>
    <plugin filename="libGravityCompensationPlugin.so" name="gravity_compensation"/>
  </gazebo>
</robot>
